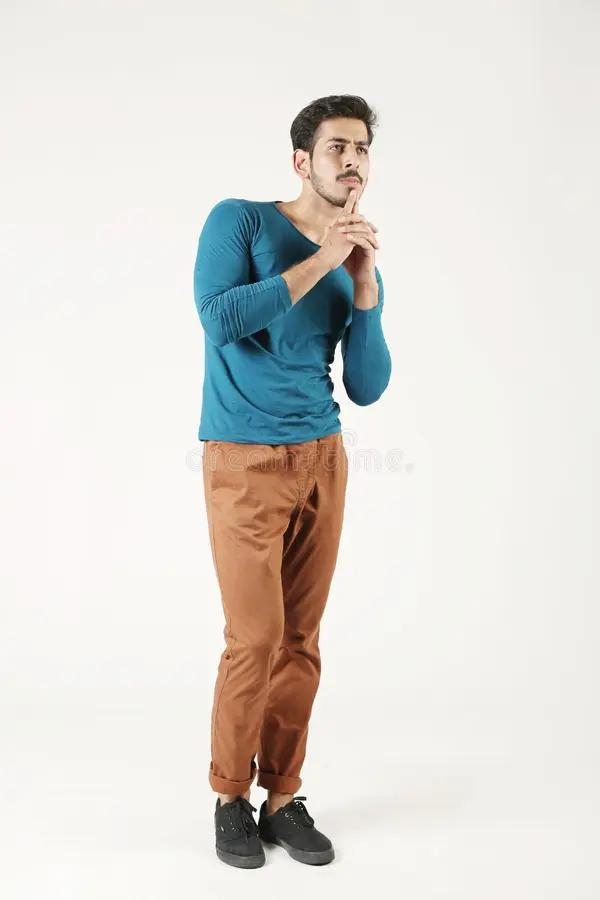long sleeve shirt: (190, 197, 394, 449)
trousers: (196, 427, 354, 796)
